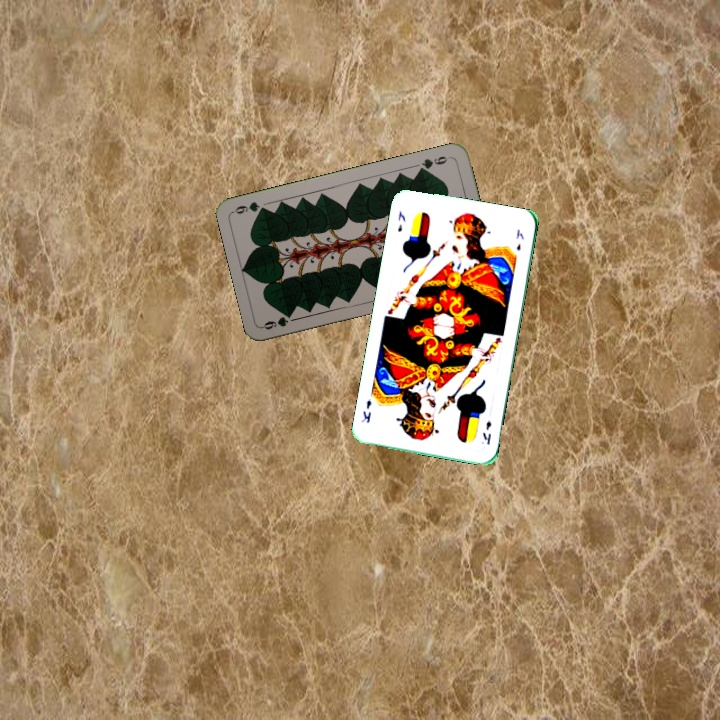EK: (479, 416, 494, 447), (393, 207, 408, 234)
G9: (414, 152, 453, 174), (259, 310, 294, 332)
